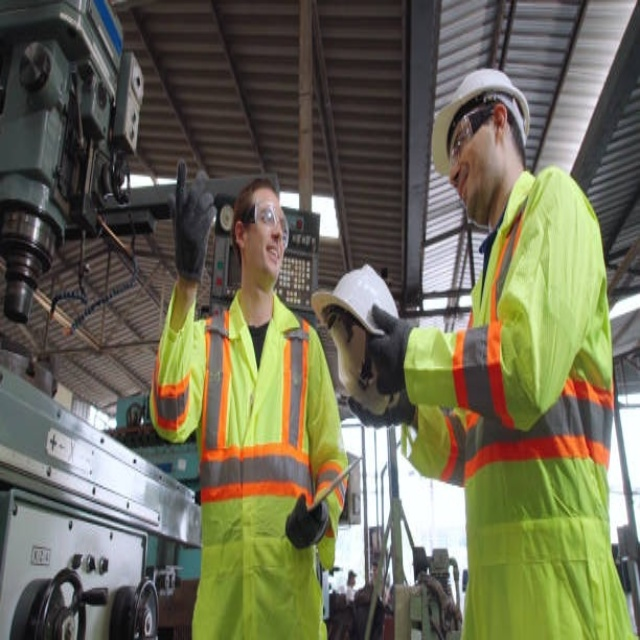Gafas: (445, 93, 497, 166), (239, 199, 291, 240)
Guantes: (172, 166, 215, 275), (366, 301, 413, 385), (281, 493, 336, 553)
Sin_mascara: (257, 234, 283, 270), (453, 171, 475, 208)
